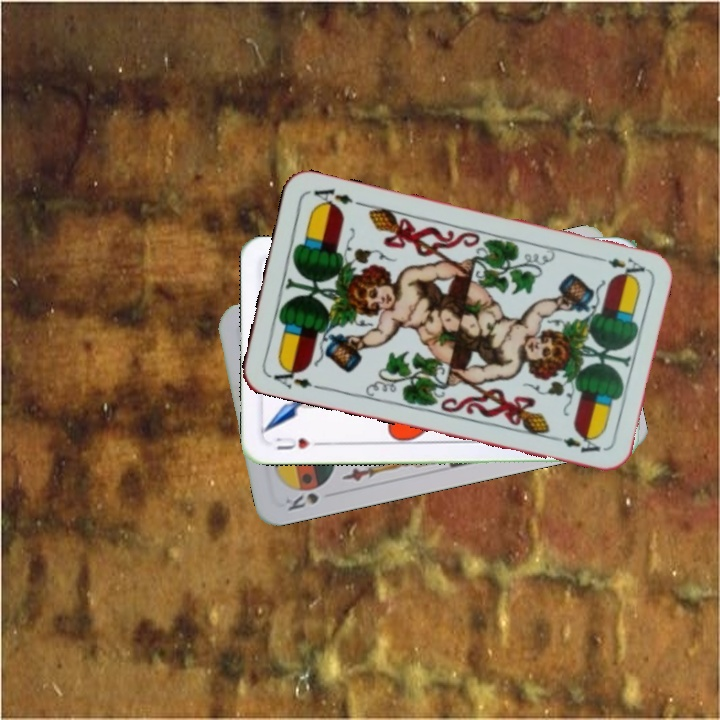EA: (270, 361, 324, 392), (590, 252, 648, 280)
HU: (271, 433, 325, 453)
SK: (282, 480, 328, 513)
